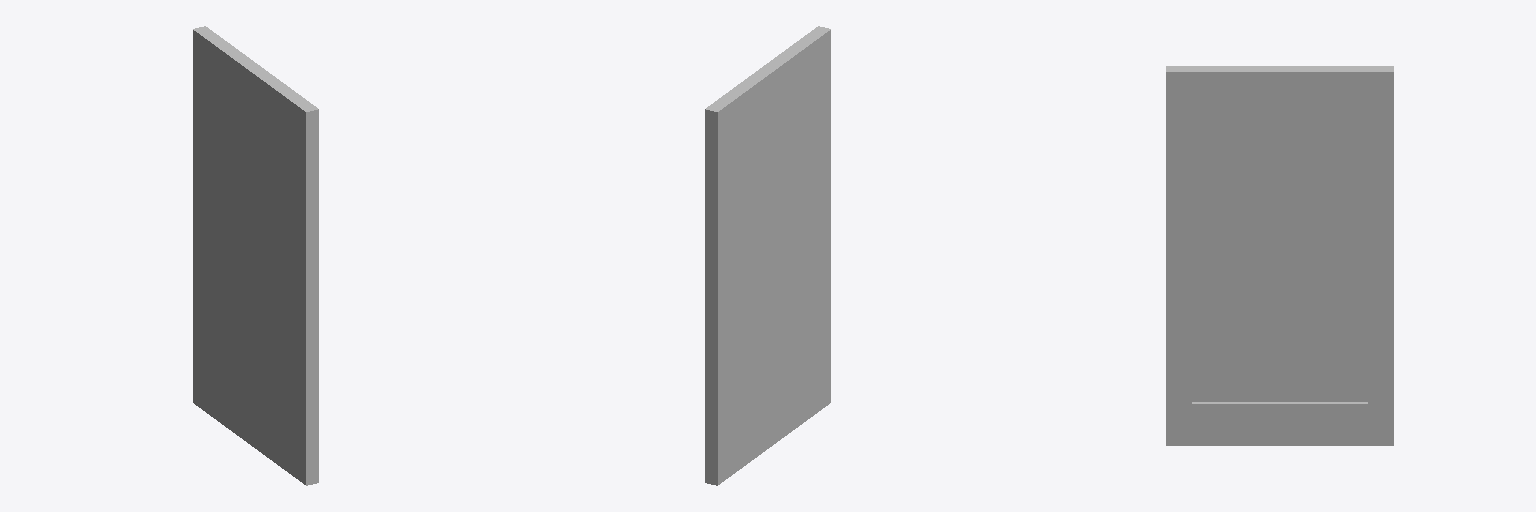
File: Mirror.obj
3 views of the same model, side by side, from view 1: azimuth 30°, elevation 25°; view 2: azimuth 150°, elevation 25°; view 3: azimuth 270°, elevation 25° (orthographic).
Parts seen in each view (by area): view 1: Cube.001; view 2: Cube.001; view 3: Cube.001.
Part boxes in pixels (x1,y1,x2,y2): Cube.001: (193,26,318,485); Cube.001: (705,26,830,485); Cube.001: (1166,66,1393,445).
Size of the model in its own units: 0.1315 by 3.62 by 2.